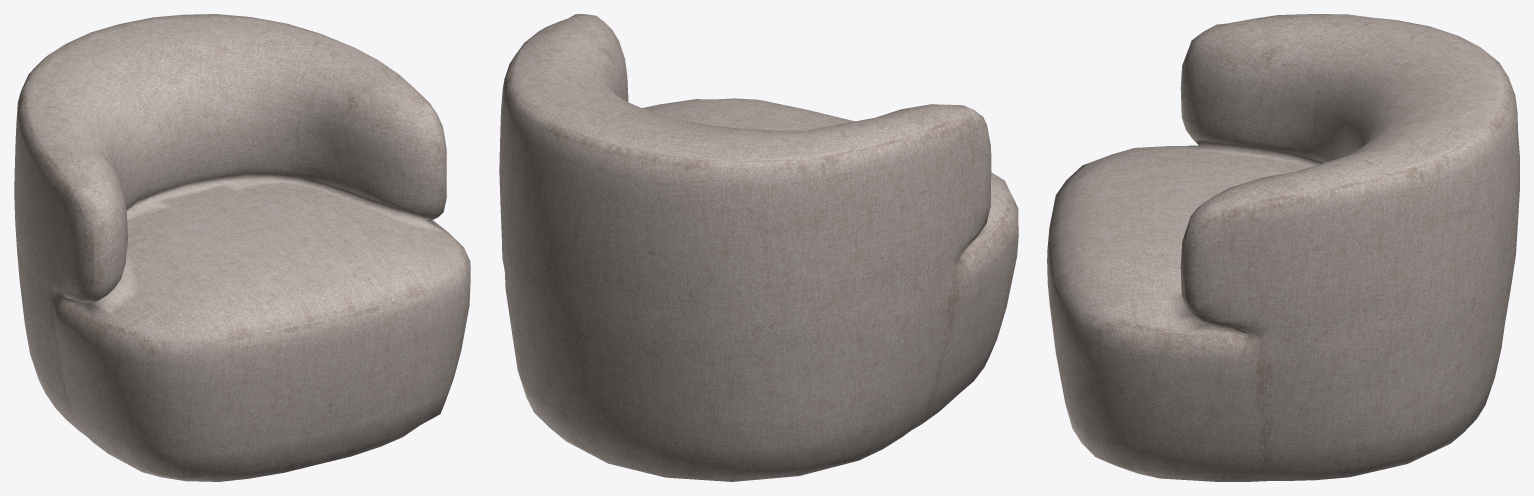
Rendered from chair1.glb.
The picture shows the model from 3 angles, left to right: view 1: azimuth 30°, elevation 25°; view 2: azimuth 150°, elevation 25°; view 3: azimuth 270°, elevation 25°; orthographic projection. The views are drawn at different scales.
Parts seen in each view (by area): view 1: Cylinder001_Material #2146932551_0; view 2: Cylinder001_Material #2146932551_0; view 3: Cylinder001_Material #2146932551_0.
Boxes of the visible parts, left/top/right/bottom form: Cylinder001_Material #2146932551_0: left=14, top=14, right=470, bottom=481; Cylinder001_Material #2146932551_0: left=499, top=14, right=1018, bottom=481; Cylinder001_Material #2146932551_0: left=1047, top=14, right=1519, bottom=481.
Size of the model in its own units: 0.8364 by 0.6424 by 0.8618.
Materials: 1 (1 with a texture image).
